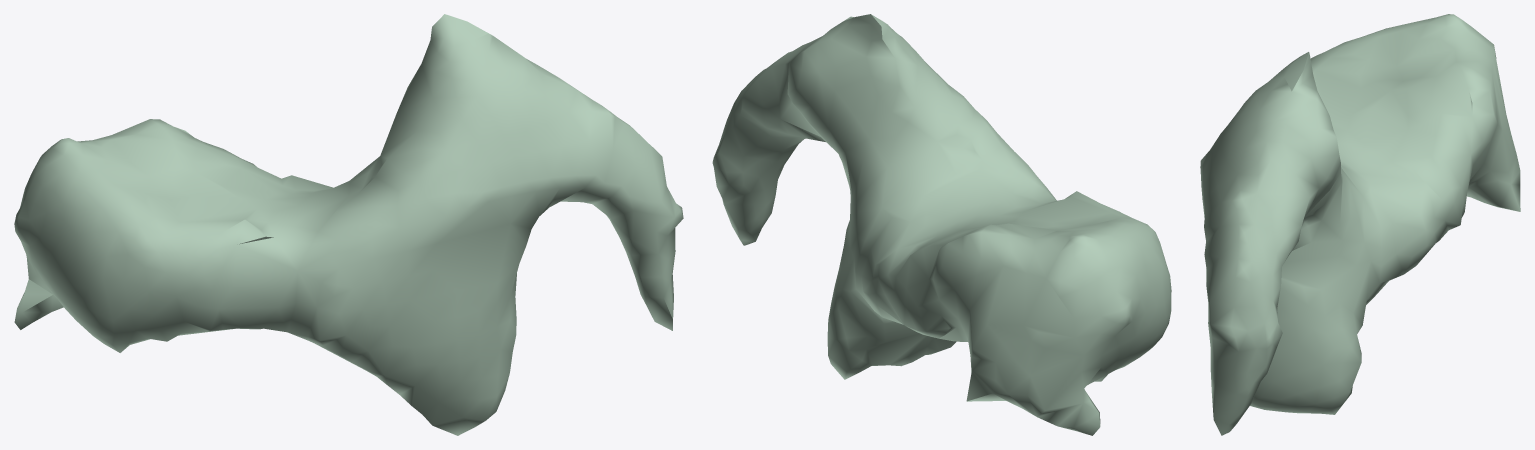
File: spl-2035.glb
The picture shows the model from 3 angles, left to right: view 1: azimuth 30°, elevation 25°; view 2: azimuth 150°, elevation 25°; view 3: azimuth 270°, elevation 25°; orthographic projection. The views are drawn at different scales.
Parts seen in each view (by area): view 1: spl-2035; view 2: spl-2035; view 3: spl-2035.
Part boxes in pixels (x1,y1,x2,y2): spl-2035: [14, 14, 683, 435]; spl-2035: [712, 14, 1171, 435]; spl-2035: [1200, 14, 1520, 435].
Bounding box in the file's own units: 22.62 × 15.23 × 12.31.
